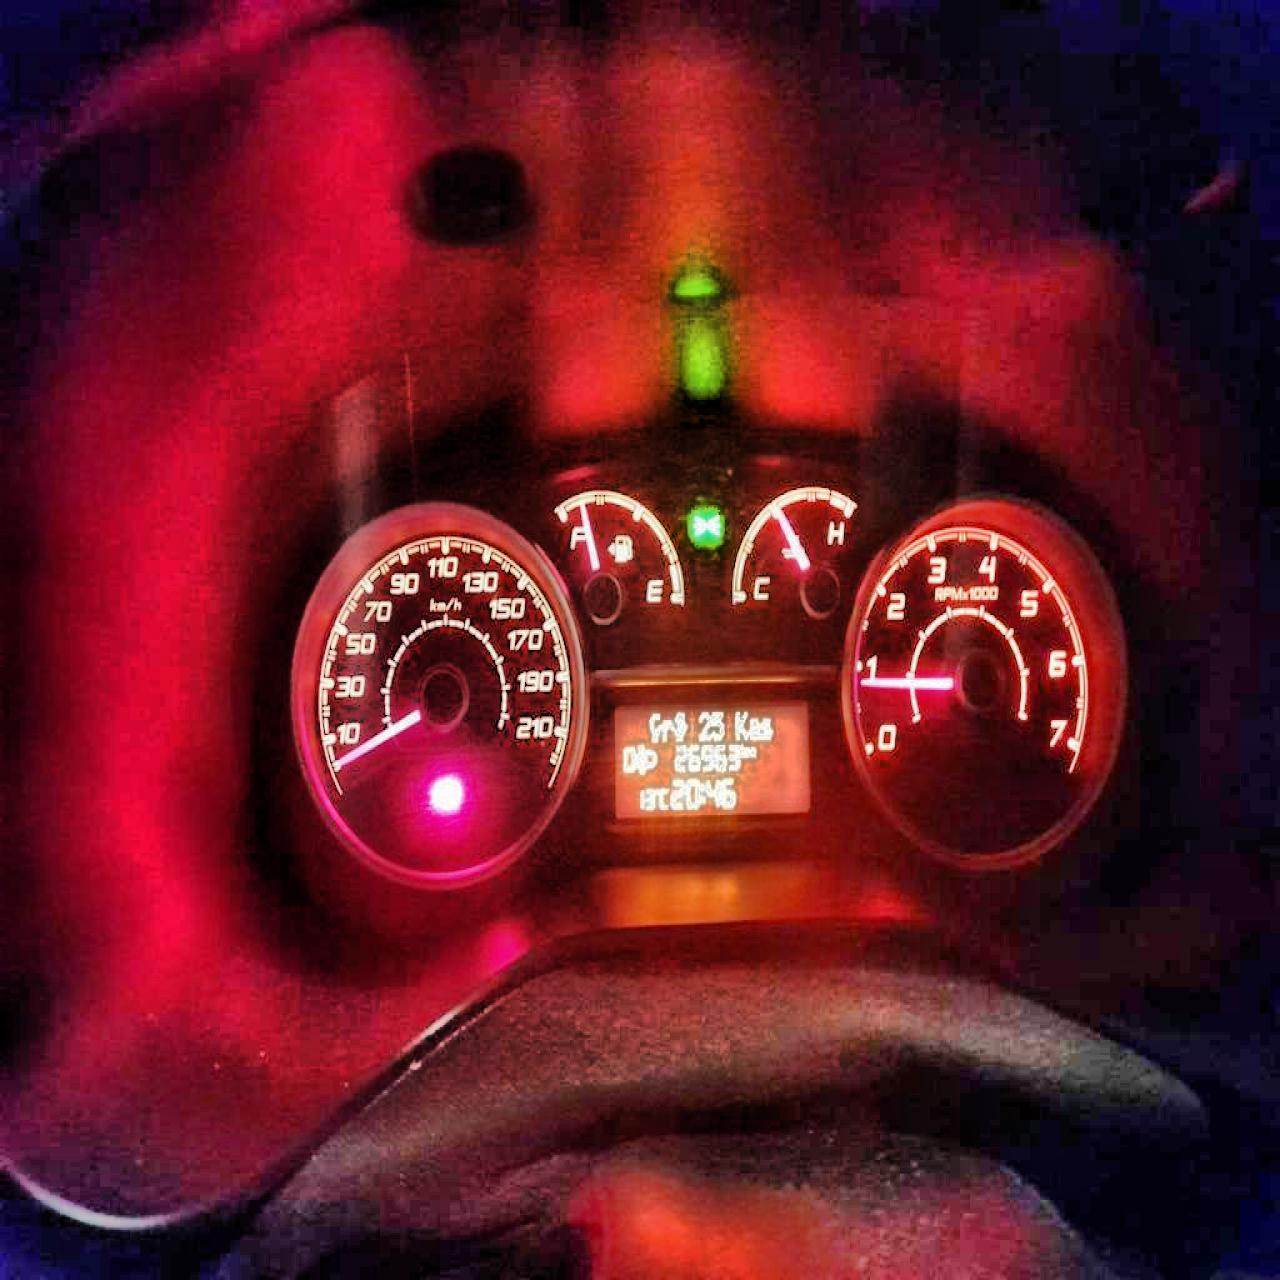0: (685, 775, 700, 810), (620, 743, 636, 771)
1: (638, 787, 644, 810)
2: (668, 777, 683, 810), (696, 710, 710, 742), (673, 743, 687, 771)
3: (726, 743, 740, 770), (644, 785, 655, 810)
4: (704, 777, 720, 809)
5: (710, 708, 726, 740)
6: (720, 775, 736, 809), (686, 743, 700, 771), (714, 743, 727, 771)
9: (700, 743, 714, 771)
X: (733, 708, 748, 740), (673, 710, 688, 742), (647, 710, 661, 742), (758, 715, 774, 740), (660, 716, 674, 742), (656, 785, 669, 810), (748, 715, 758, 740), (747, 743, 757, 758), (700, 779, 704, 805), (740, 742, 745, 758)
odometer: (613, 702, 811, 818)
